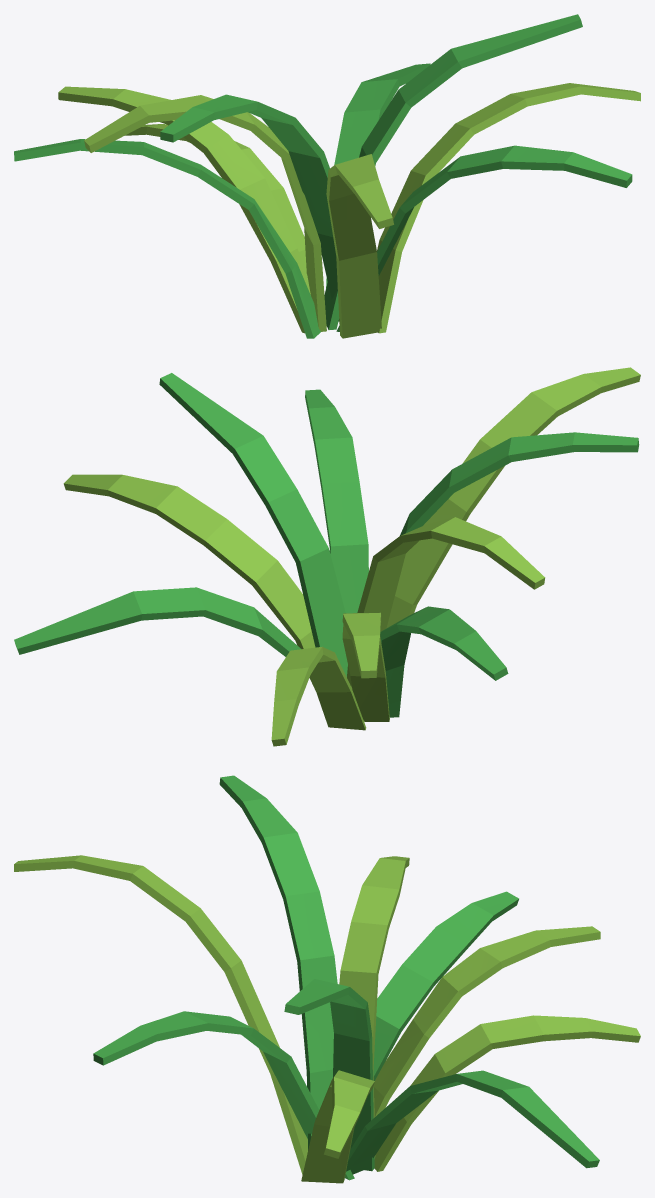
The model's file is Grass.glb.
3 views of the same model, one above another, from view 1: azimuth 30°, elevation 25°; view 2: azimuth 150°, elevation 25°; view 3: azimuth 270°, elevation 25° (orthographic). The views are drawn at different scales.
Visible parts, largest first — view 1: grass_01_Plane.001; view 2: grass_01_Plane.001; view 3: grass_01_Plane.001.
Boxes of the visible parts, box(x1,y1,x2,y2) form: grass_01_Plane.001: box(14, 14, 640, 338); grass_01_Plane.001: box(14, 367, 640, 746); grass_01_Plane.001: box(14, 775, 640, 1183).
Bounding box in the file's own units: 391 × 203 × 405.
